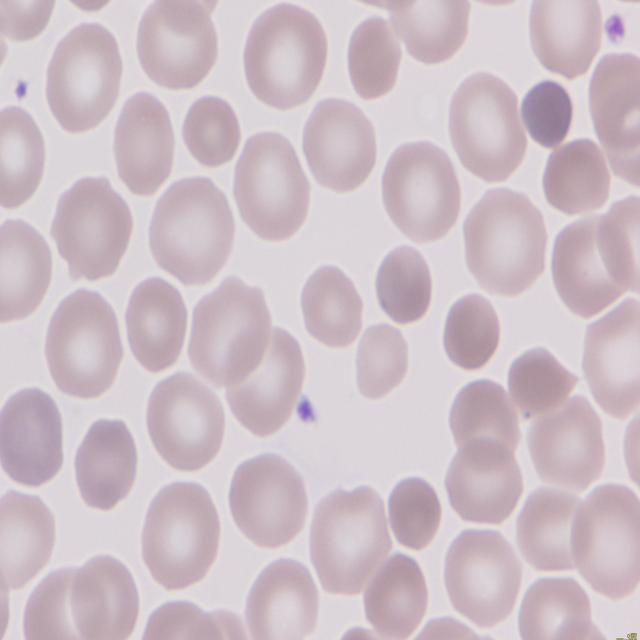Platelets: (296, 394, 320, 426)
RBC: (142, 175, 238, 288), (236, 0, 332, 112), (459, 187, 551, 300), (304, 486, 394, 601), (135, 478, 223, 594), (40, 285, 128, 399), (49, 173, 138, 284), (41, 20, 125, 137), (546, 212, 632, 323), (140, 370, 228, 478), (376, 140, 463, 248), (219, 328, 304, 438), (222, 450, 310, 556), (187, 275, 273, 383), (230, 130, 311, 244), (438, 522, 521, 632), (444, 72, 524, 180), (133, 0, 223, 94), (569, 482, 640, 601), (300, 94, 380, 196), (440, 438, 526, 532), (528, 396, 610, 492), (110, 91, 180, 198), (0, 384, 67, 494), (119, 271, 190, 373), (578, 300, 640, 414), (68, 414, 140, 511), (240, 554, 320, 640), (444, 374, 520, 464), (522, 0, 605, 82), (68, 550, 141, 640), (362, 547, 430, 640), (0, 215, 56, 326), (0, 484, 57, 592), (298, 260, 366, 350), (382, 0, 470, 68), (585, 52, 640, 154), (542, 136, 613, 214), (0, 105, 49, 215), (513, 574, 592, 640), (182, 90, 242, 173), (353, 323, 412, 399), (598, 192, 640, 292), (0, 0, 58, 42), (620, 398, 640, 512), (50, 0, 126, 14), (456, 0, 538, 10)
Spherocyte: (368, 238, 436, 328), (340, 12, 402, 108), (441, 291, 508, 374), (518, 76, 576, 150), (388, 476, 439, 556)
